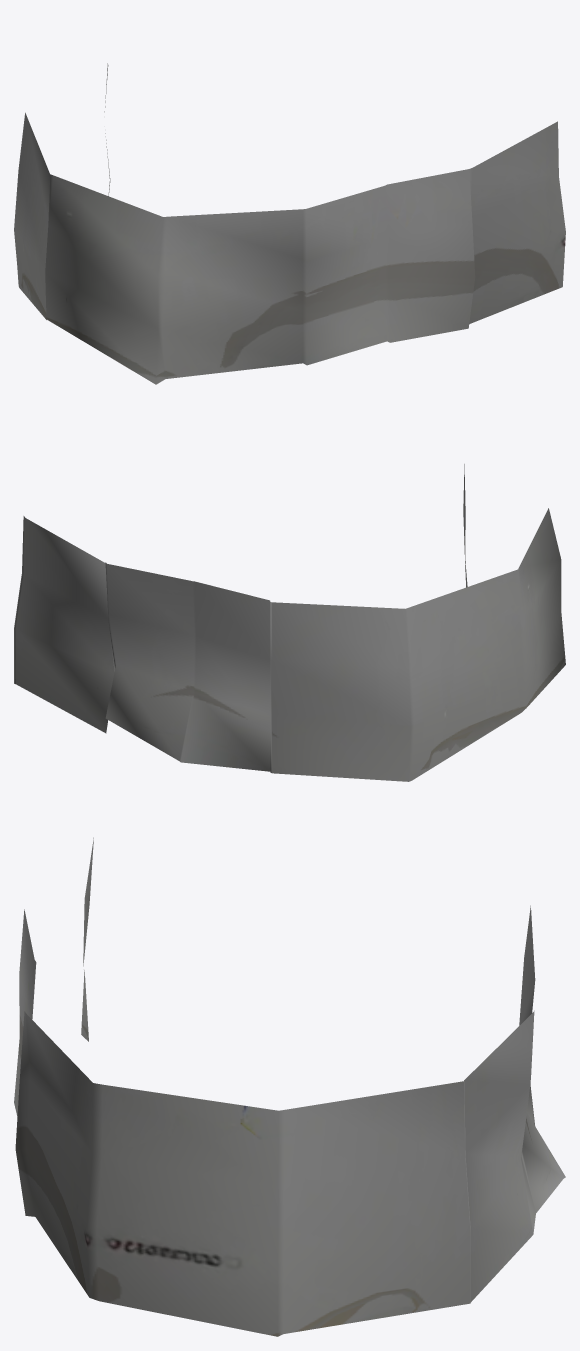
The picture shows the model from 3 angles, top to bottom: view 1: azimuth 30°, elevation 25°; view 2: azimuth 150°, elevation 25°; view 3: azimuth 270°, elevation 25°; orthographic projection. The views are drawn at different scales.
Parts seen in each view (by area): view 1: geometry_0; view 2: geometry_0; view 3: geometry_0.
Part boxes in pixels (<box>): geometry_0: <box>14,63,565,384</box>; geometry_0: <box>14,464,565,781</box>; geometry_0: <box>14,837,565,1336</box>.
Size of the model in its own units: 0.4065 by 0.138 by 0.3051.
Materials: 1 (1 with a texture image).
